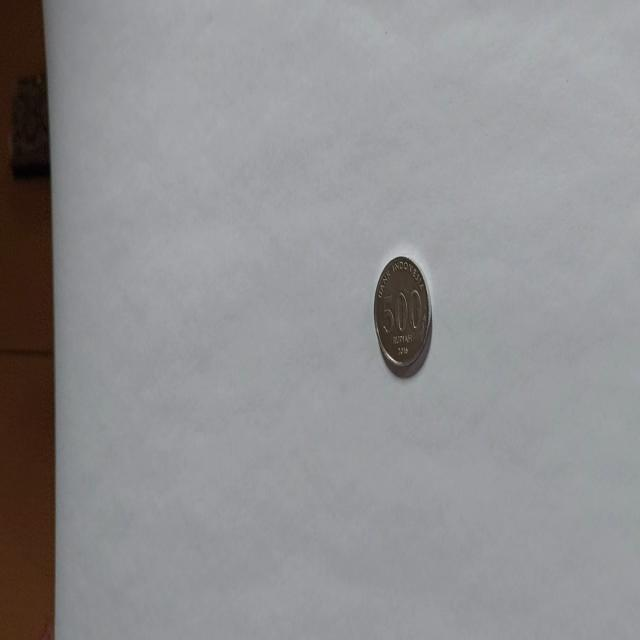lima ratus rupiah: (372, 254, 432, 378)
